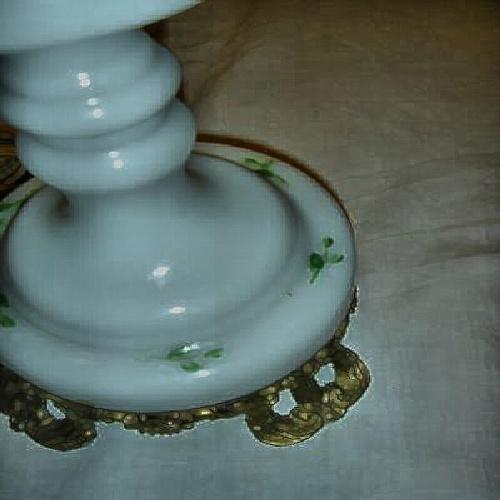lamp: (17, 27, 364, 441)
